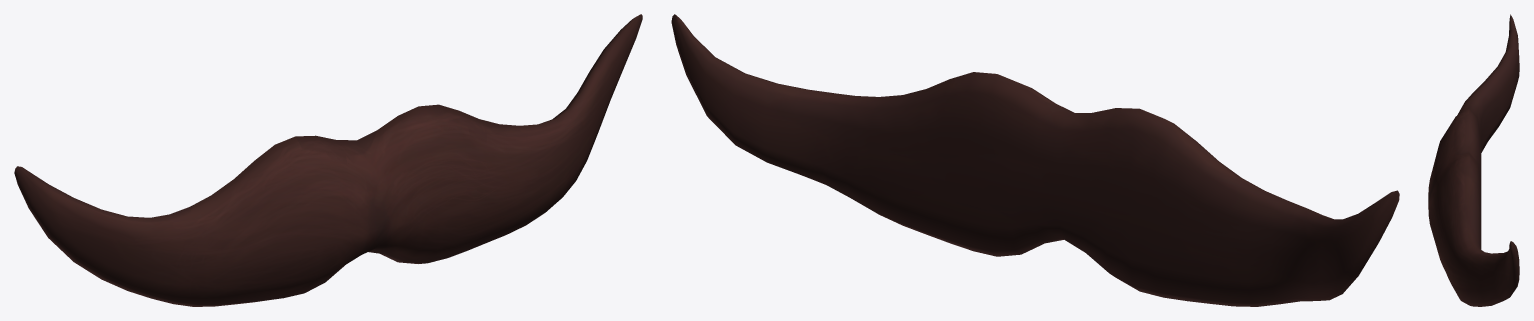
Rendered from moustache.fbx.
The picture shows the model from 3 angles, left to right: view 1: azimuth 30°, elevation 25°; view 2: azimuth 150°, elevation 25°; view 3: azimuth 270°, elevation 25°; orthographic projection. The views are drawn at different scales.
Parts seen in each view (by area): view 1: moustache1; view 2: moustache1; view 3: moustache1.
Part boxes in pixels (x1,y1,x2,y2): moustache1: (14,14,642,306); moustache1: (671,14,1399,306); moustache1: (1428,14,1519,306).
Bounding box in the file's own units: 99.71 × 25.63 × 16.8.
